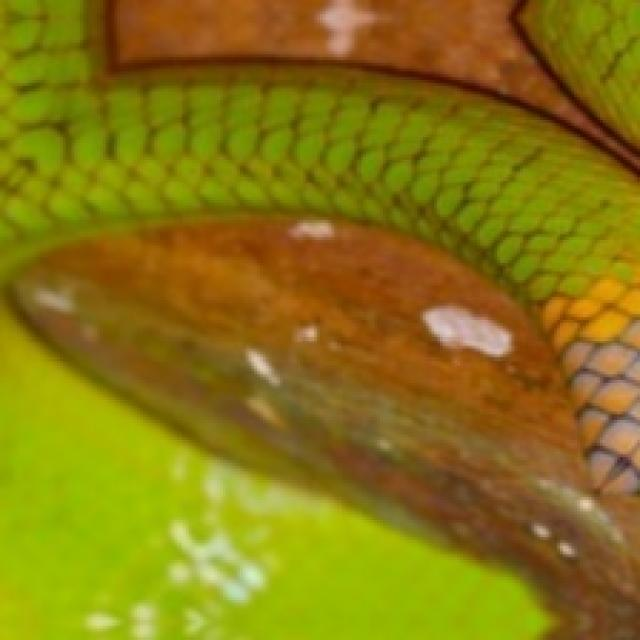red-tailed green ratsnake: (0, 0, 638, 494), (0, 300, 543, 637), (520, 0, 640, 146)
